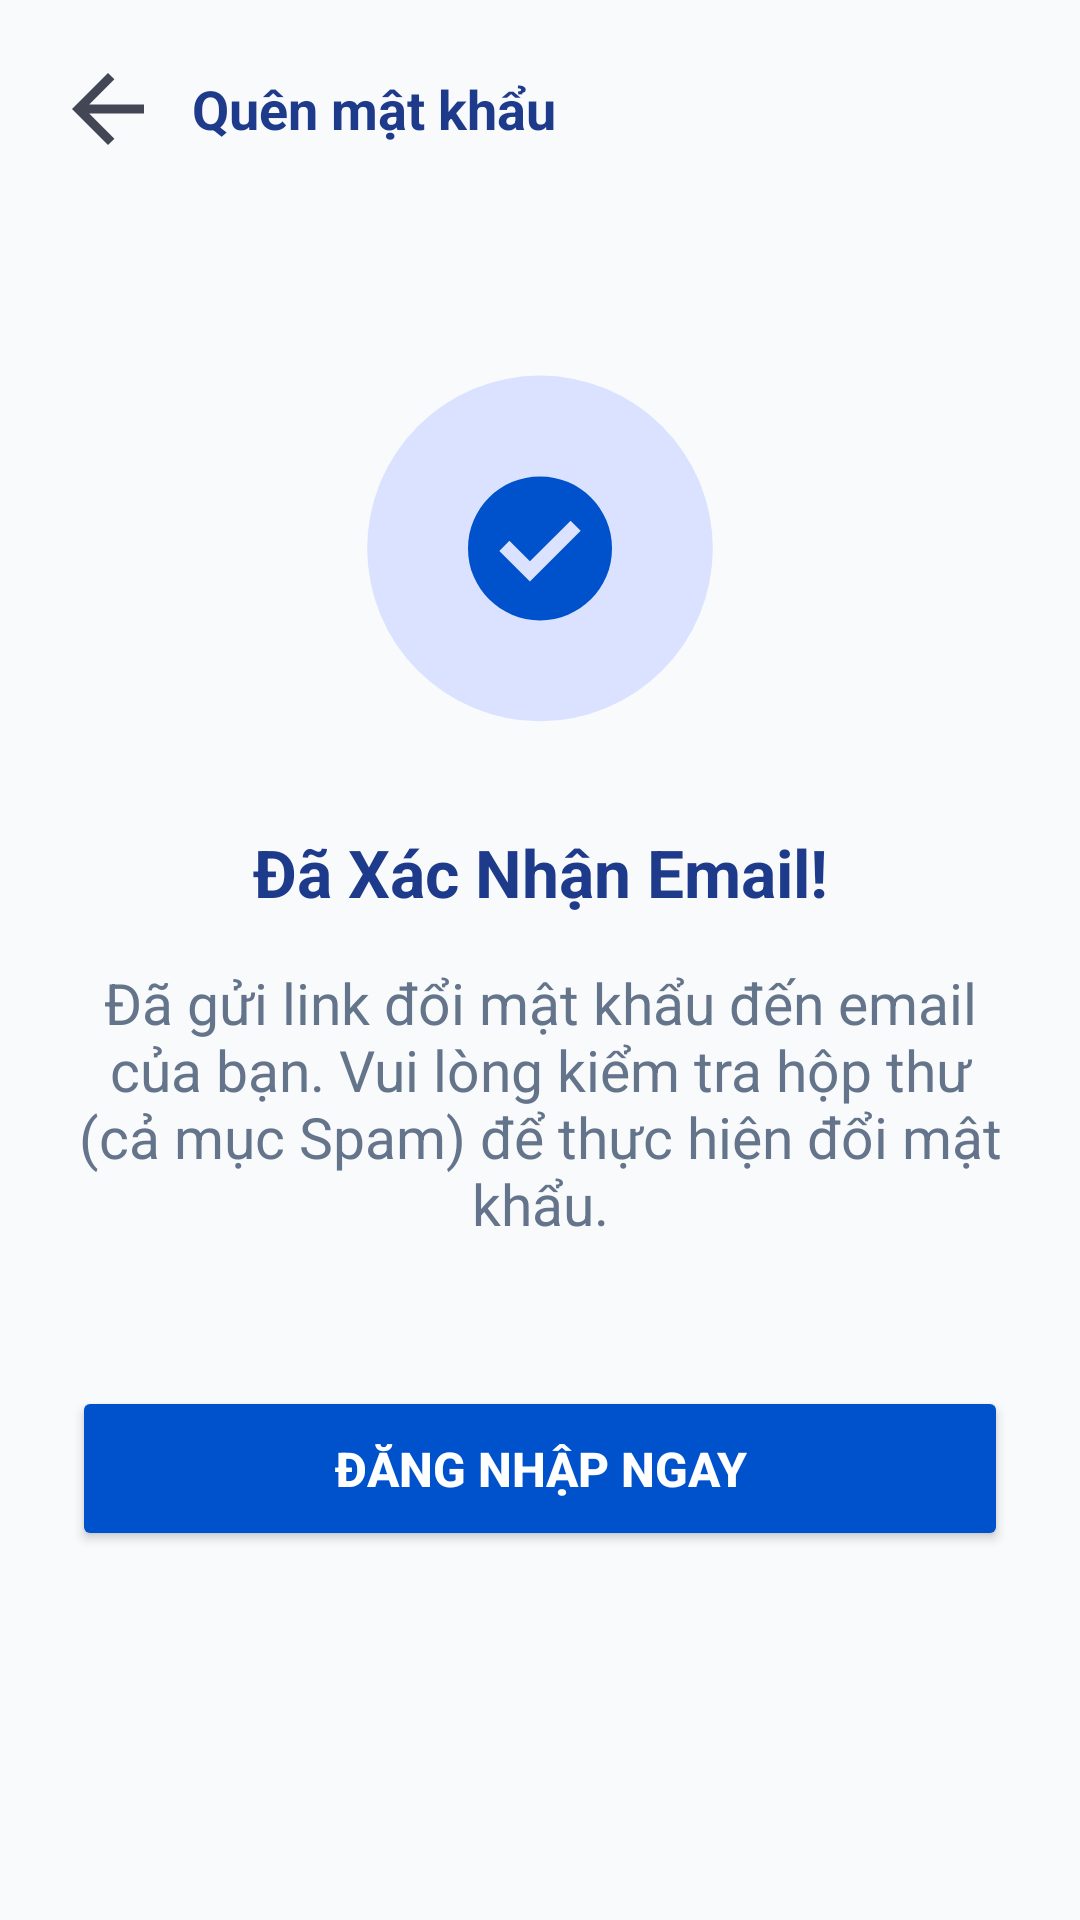

Locate icon controls on the screen. Image size 1080x1920, boxes as bbox=[x1, y1, x2, y2].
success: bbox=[367, 376, 712, 721]
